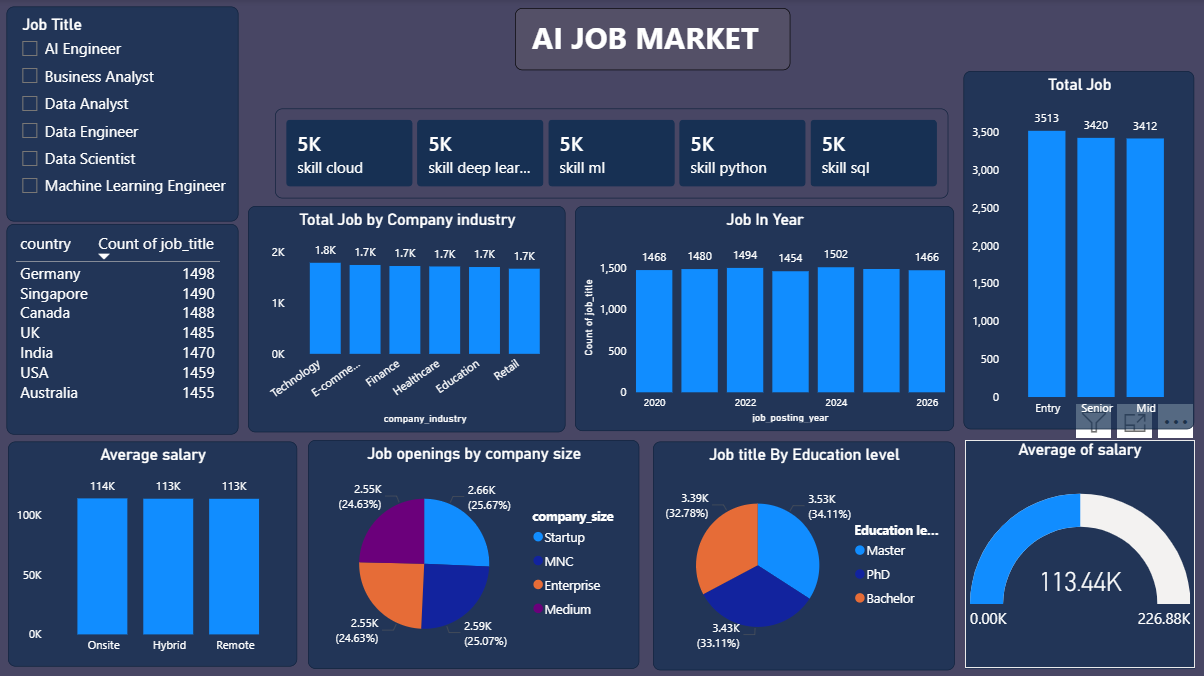

This screenshot's page, from the dashboard's own definition file:
{"tool":"powerbi","page":{"name":"Page 1","canvas":[1280,720],"ordinal":0},"visuals":[{"type":"slicer","fields":{"Values":["AI Job Market Dataset.job_title"]},"box":[8.4,7.2,246.1,228],"z":0},{"type":"gauge","fields":{"Y":["Avg(AI Job Market Dataset.salary)"]},"box":[1024.3,466.9,243.7,242.5],"z":1000},{"type":"columnChart","title":"Job In Year","fields":{"Category":["AI Job Market Dataset.job_posting_year"],"Y":["CountNonNull(AI Job Market Dataset.job_title)"]},"box":[610.5,219.6,401.7,238.9],"z":2000},{"type":"tableEx","title":"Job Title by Country","fields":{"Values":["AI Job Market Dataset.country","CountNonNull(AI Job Market Dataset.job_title)"]},"box":[8.4,238.9,246.1,223.2],"z":3000},{"type":"columnChart","title":"Total Job by Company industry","fields":{"Category":["AI Job Market Dataset.company_industry"],"Y":["CountNonNull(AI Job Market Dataset.job_title)"]},"box":[264.2,219.6,336.6,240.1],"z":4000},{"type":"columnChart","title":"Total Job","fields":{"Category":["AI Job Market Dataset.experience_level"],"Y":["CountNonNull(AI Job Market Dataset.job_title)"]},"box":[1023.1,76,244.9,380],"z":5000},{"type":"pieChart","title":"Job title By Education level","fields":{"Y":["CountNonNull(AI Job Market Dataset.job_title)"],"Category":["AI Job Market Dataset.education_level"]},"box":[693.7,469.3,319.7,242.5],"z":6000},{"type":"pieChart","title":"Job openings by company size","fields":{"Y":["CountNonNull(AI Job Market Dataset.job_openings)"],"Category":["AI Job Market Dataset.company_size"]},"box":[328.2,468.1,351.1,242.5],"z":7000},{"type":"columnChart","title":"Average salary ","fields":{"Y":["Avg(AI Job Market Dataset.salary)"],"Category":["AI Job Market Dataset.remote_type"]},"box":[9.7,469.3,306.4,238.9],"z":8000},{"type":"cardVisual","fields":{"Data":["AI Job Market Dataset.count cloud skill","AI Job Market Dataset.skill deep learning","AI Job Market Dataset.skill ml","AI Job Market Dataset.skill python","AI Job Market Dataset.skill sql"]},"box":[292,115.8,714.2,95.3],"z":9000},{"type":"textbox","box":[547.7,9.3,291.9,66.3],"z":10000}]}

Visuals, with their boxes in screenshot pixels (x1, y1, x2, y2), scaled from the page's 1280x720 canvas onto the 1204x676 screenshot:
slicer - AI Job Market Dataset.job_title: detection(8, 7, 239, 221)
gauge - Avg(AI Job Market Dataset.salary): detection(963, 438, 1193, 666)
"Job In Year" columnChart: detection(574, 206, 952, 430)
"Job Title by Country" tableEx: detection(8, 224, 239, 434)
"Total Job by Company industry" columnChart: detection(249, 206, 565, 432)
"Total Job" columnChart: detection(962, 71, 1193, 428)
"Job title By Education level" pieChart: detection(653, 441, 953, 668)
"Job openings by company size" pieChart: detection(309, 439, 639, 667)
"Average salary " columnChart: detection(9, 441, 297, 665)
cardVisual - AI Job Market Dataset.count cloud skill x AI Job Market Dataset.skill deep learning: detection(275, 109, 946, 198)
textbox: detection(515, 9, 790, 71)
